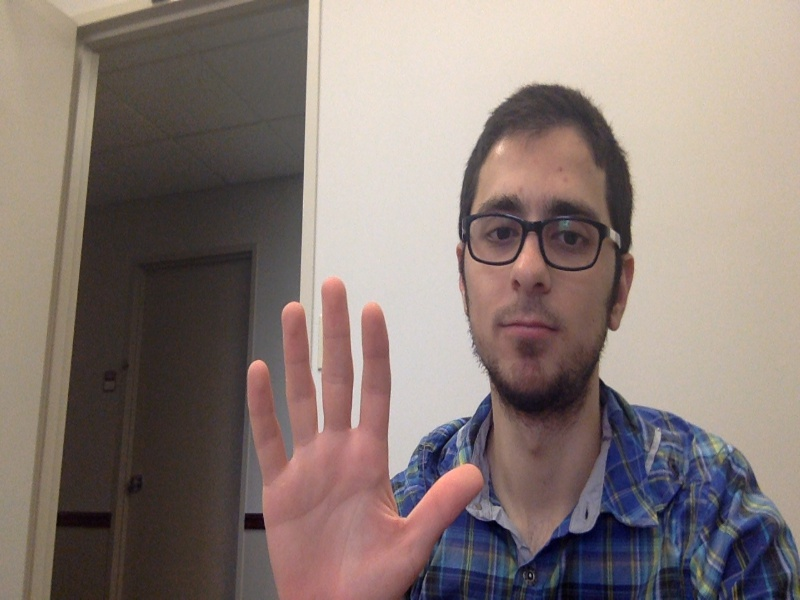5-hand: (241, 274, 484, 600)
